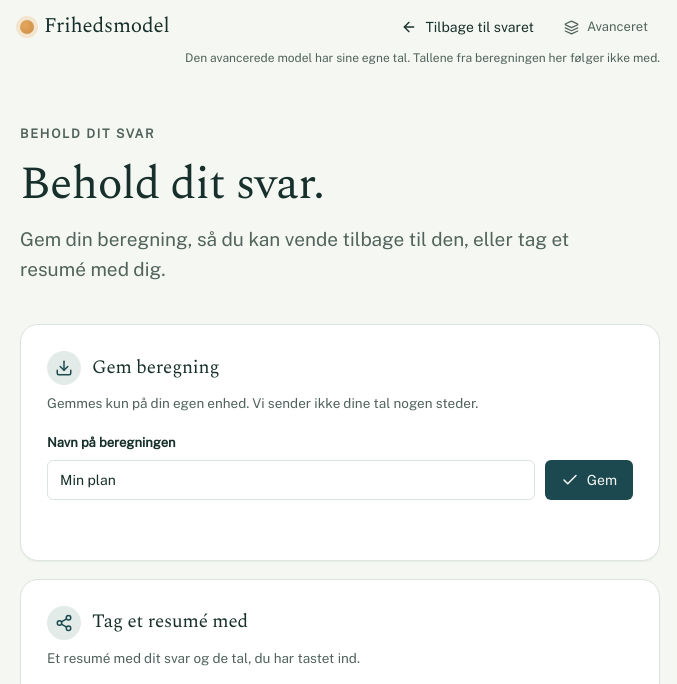
Scenario: route-change focus management › corner button -> Advanced door: the door's h1 receives focus
The image size is (677, 684).
Click the link "Avanceret" at (606, 27), box x1=564 y1=19 x2=648 y2=35
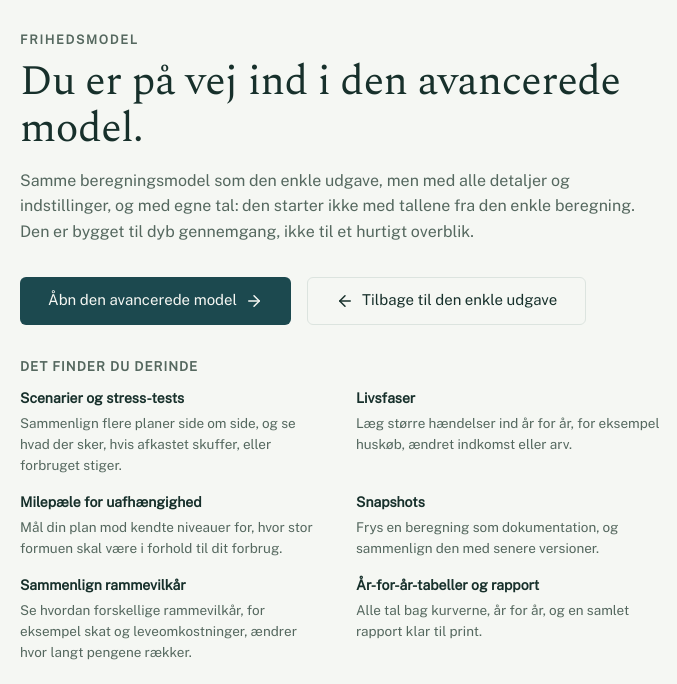
Now the heading "Du er på vej ind i den avancerede model." is shown, box x1=20 y1=58 x2=660 y2=152
